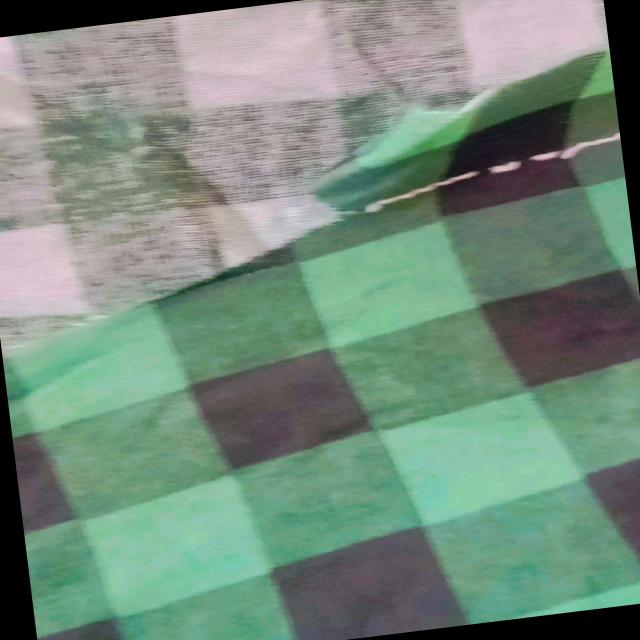cut: (140, 151, 386, 296)
